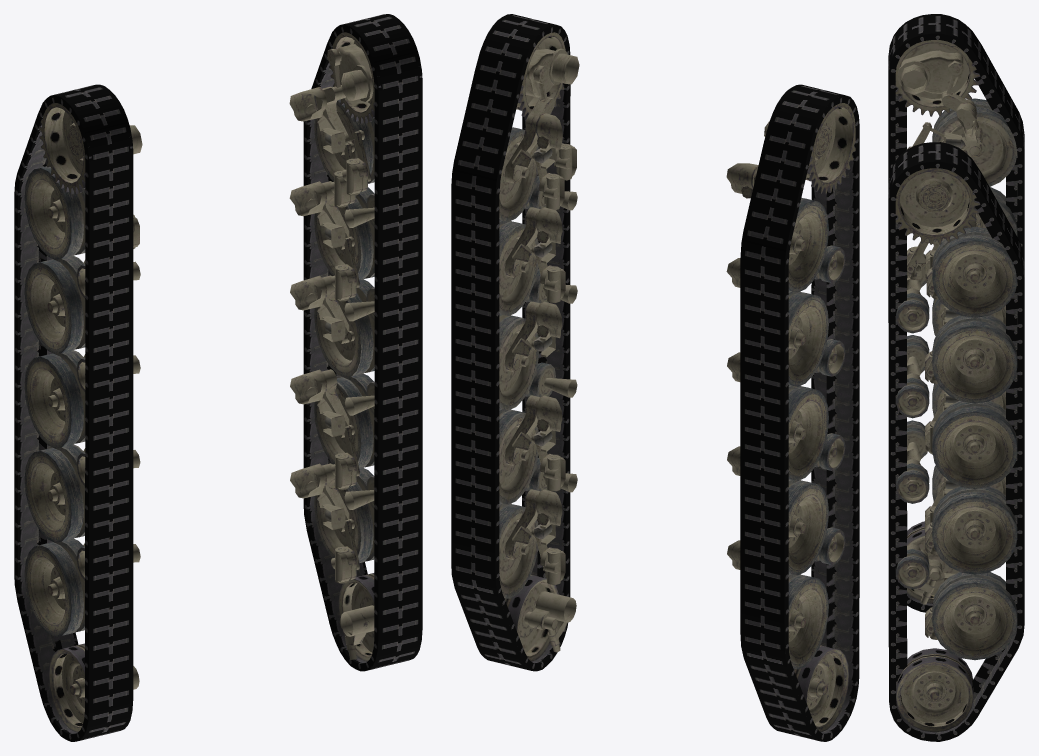
File: Chassis.glb
The picture shows the model from 3 angles, left to right: view 1: azimuth 30°, elevation 25°; view 2: azimuth 150°, elevation 25°; view 3: azimuth 270°, elevation 25°; orthographic projection. The views are drawn at different scales.
Visible parts, largest first — view 1: set_1_group_0, set_0_group_0, set_3_group_0, set_2_group_0; view 2: set_1_group_0, set_0_group_0, set_3_group_0, set_2_group_0; view 3: set_3_group_0, set_0_group_0, set_2_group_0, set_1_group_0.
Boxes of the visible parts, x1,y1,x2,y2 form: set_1_group_0: (14,84,133,741); set_0_group_0: (303,14,422,671); set_3_group_0: (289,32,422,661); set_2_group_0: (24,103,142,732); set_1_group_0: (740,84,859,741); set_0_group_0: (451,14,570,671); set_3_group_0: (499,32,579,661); set_2_group_0: (726,103,855,732); set_3_group_0: (889,168,1017,732); set_0_group_0: (888,142,1024,741); set_2_group_0: (889,40,1017,604); set_1_group_0: (888,14,1024,612).
Size of the model in its own units: 2.77 by 5.07 by 1.08.
Materials: 4 (4 with a texture image).
